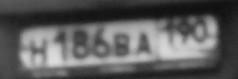license-plateSW: (16, 10, 220, 70)
